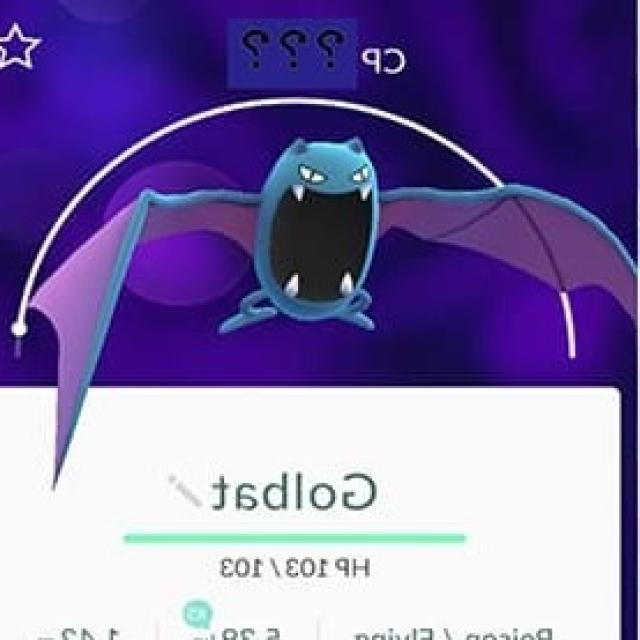Golbat: (151, 135, 444, 339)
